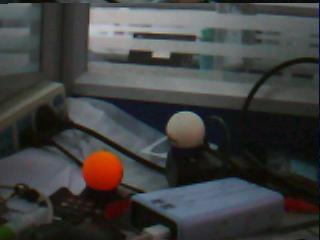oball: (81, 150, 123, 192)
